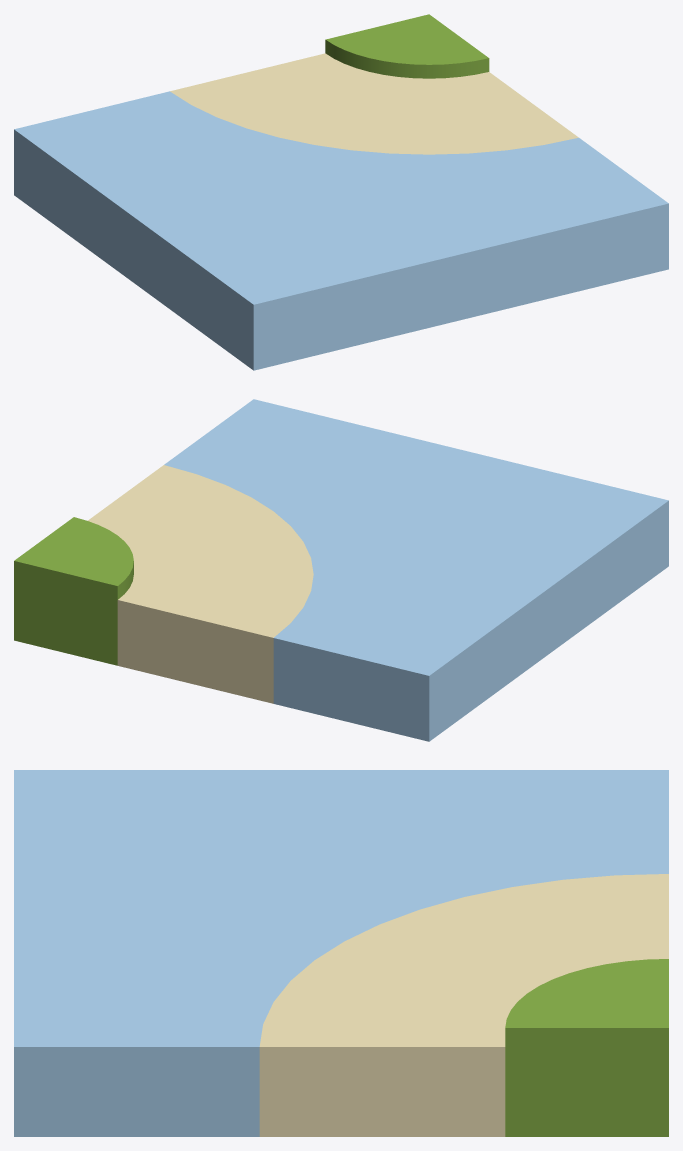
File: tile126.obj
3 renders of one model, top to bottom at view 1: azimuth 30°, elevation 25°; view 2: azimuth 150°, elevation 25°; view 3: azimuth 270°, elevation 25°, orthographic. The views are drawn at different scales.
Visible parts, largest first — view 1: tile126; view 2: tile126; view 3: tile126.
Boxes of the visible parts, left/top/right/bottom form: tile126: left=14, top=14, right=668, bottom=370; tile126: left=14, top=399, right=668, bottom=741; tile126: left=14, top=770, right=668, bottom=1136.
Bounding box in the file's own units: 1 × 0.1833 × 1.
